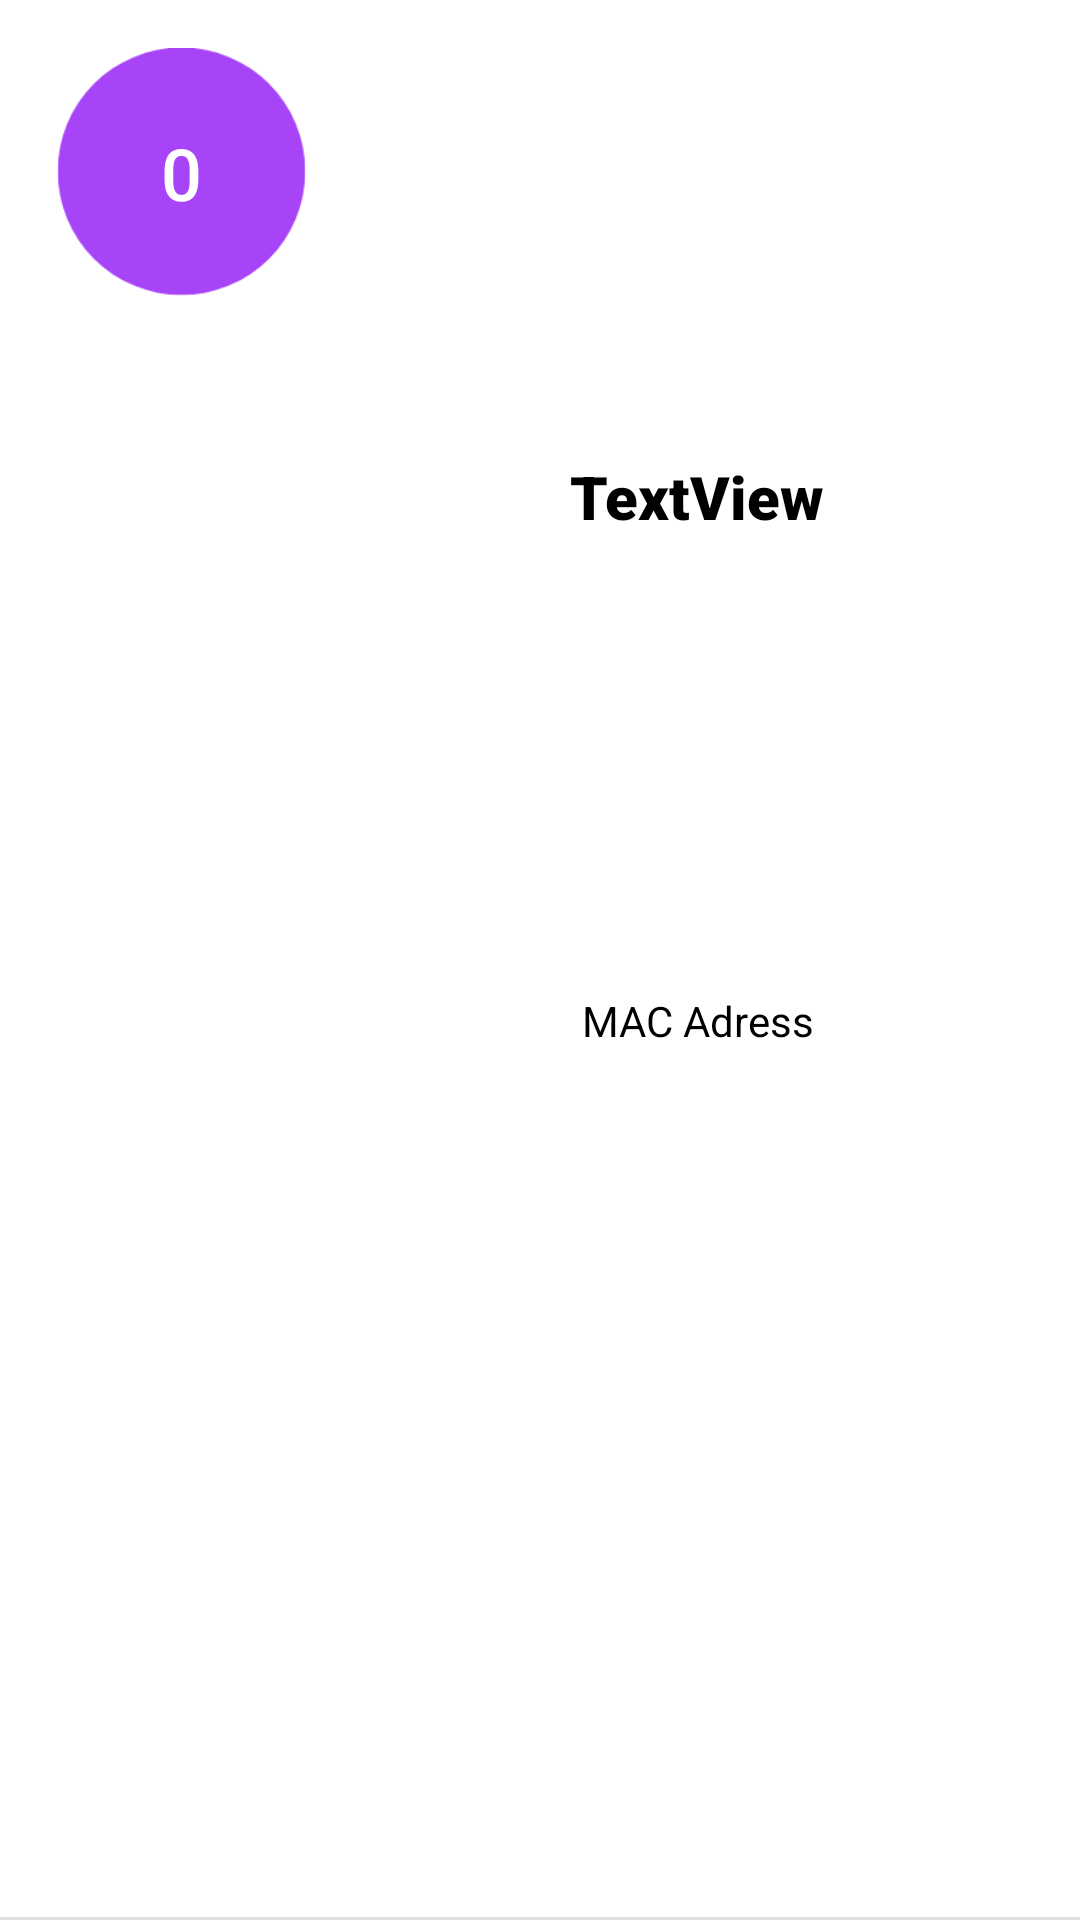

Screen size 1080px×1920px. Icon name, then its box in pixels as (x1,y1,x2,y2):
circle: (57,48,306,296)
